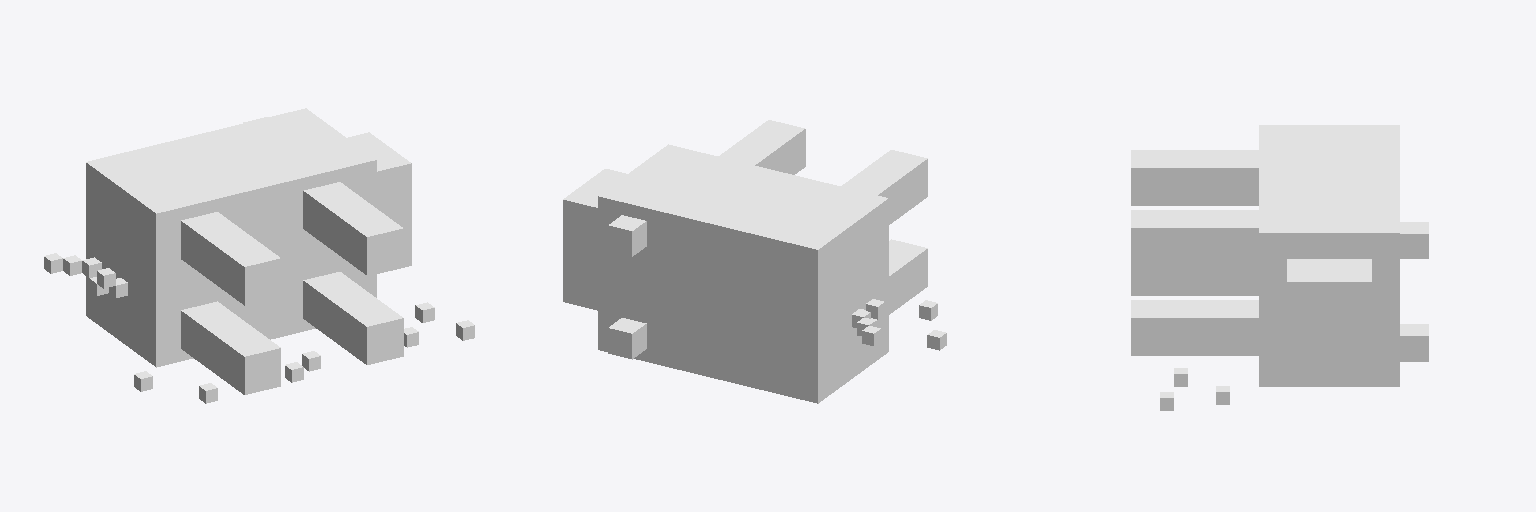
Rendered from mama.obj.
3 views of the same model, side by side, from view 1: azimuth 30°, elevation 25°; view 2: azimuth 150°, elevation 25°; view 3: azimuth 270°, elevation 25° (orthographic).
Visible parts, largest first — view 1: mama; view 2: mama; view 3: mama.
Boxes of the visible parts, x1,y1,x2,y2 form: mama: [44, 108, 474, 403]; mama: [563, 120, 946, 403]; mama: [1131, 125, 1428, 410].
Bounding box in the file's own units: 26 × 12 × 21.